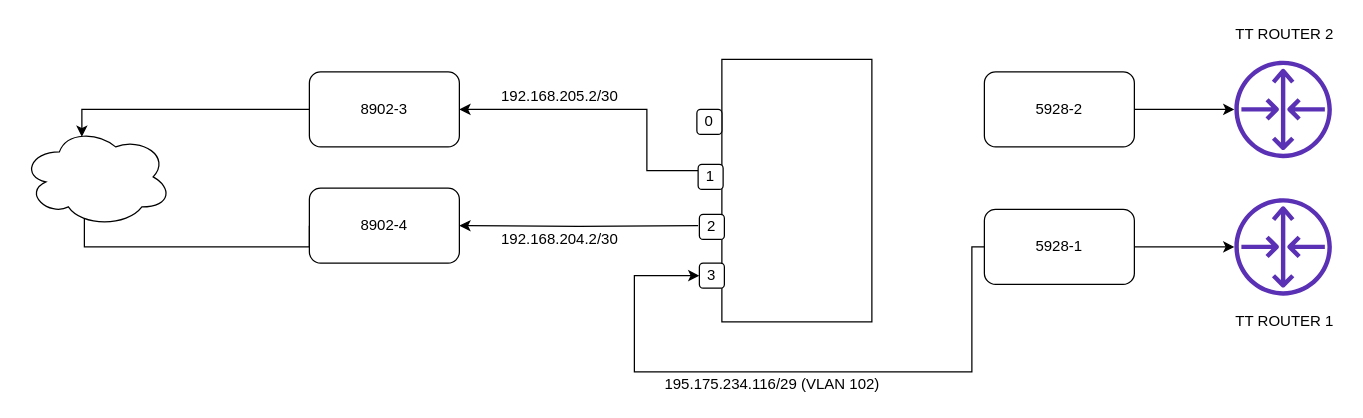
The diagram is 1363 pixels wide and 418 high, and some of its shapes have lost their labels. The shapes that lost their labels are listed below. From the top down, each one's centre as x and y in pixels, then its label:
At pixel 96 176: "WIMAX".
At pixel 796 190: "CISCO 887".
